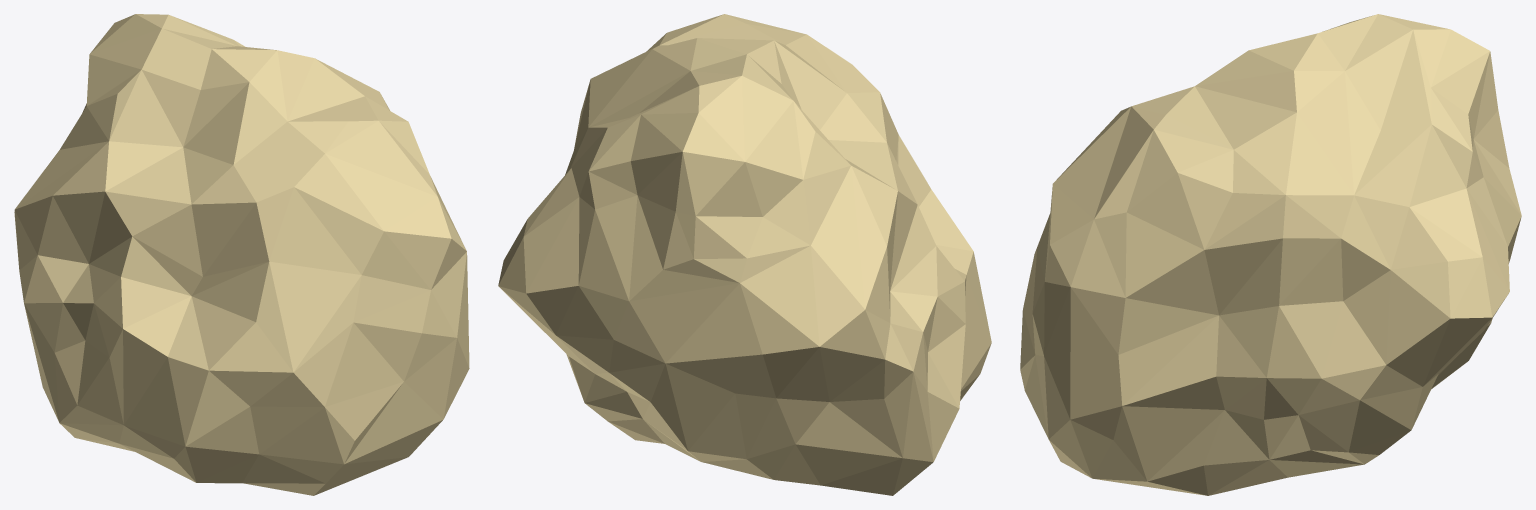
Rendered from Asteroid (88).fbx.
The picture shows the model from 3 angles, left to right: view 1: azimuth 30°, elevation 25°; view 2: azimuth 150°, elevation 25°; view 3: azimuth 270°, elevation 25°; orthographic projection. The views are drawn at different scales.
Parts seen in each view (by area): view 1: Asteroid132; view 2: Asteroid132; view 3: Asteroid132.
Boxes of the visible parts, left/top/right/bottom form: Asteroid132: left=14, top=14, right=469, bottom=495; Asteroid132: left=498, top=14, right=991, bottom=495; Asteroid132: left=1020, top=14, right=1521, bottom=495.
Size of the model in its own units: 223 by 246 by 259.
